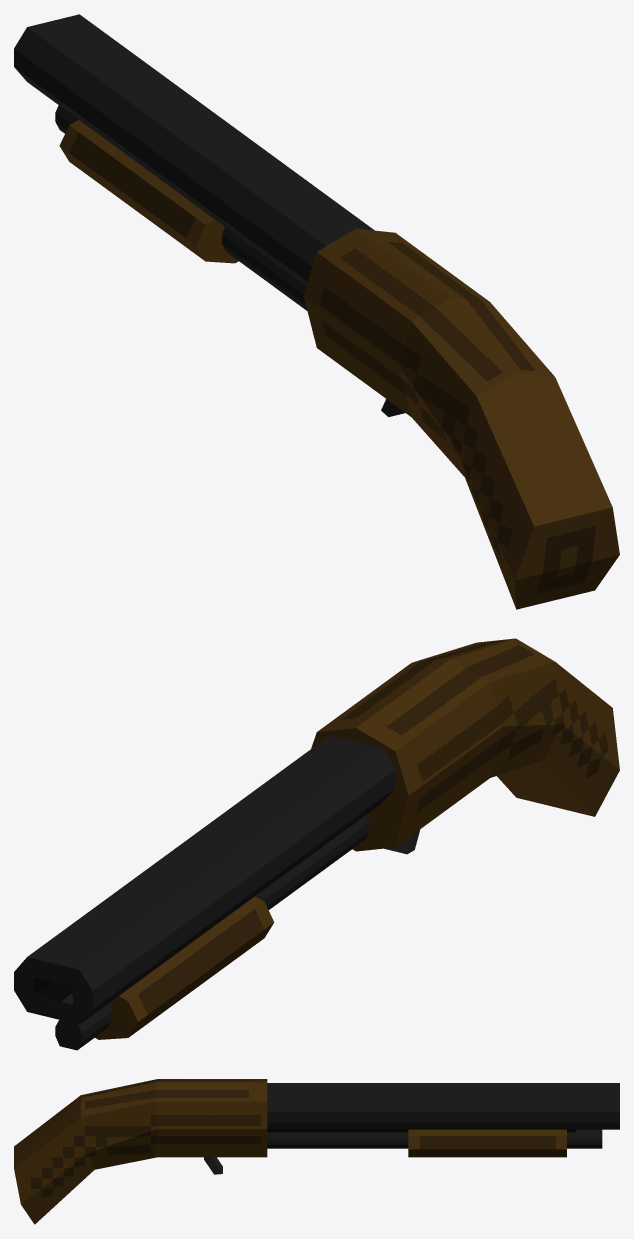
The model's file is shotgun.gltf.
3 renders of one model, top to bottom at view 1: azimuth 30°, elevation 25°; view 2: azimuth 150°, elevation 25°; view 3: azimuth 270°, elevation 25°, orthographic. The views are drawn at different scales.
Visible parts, largest first — view 1: base, top barrel, pump, lower barrel; view 2: base, top barrel, pump, lower barrel; view 3: base, top barrel, pump, lower barrel, mid shaft, trigger.
Boxes of the visible parts, x1=… form: base: x1=303, y1=228, x2=619, y2=609; top barrel: x1=14, y1=14, x2=374, y2=286; pump: x1=59, y1=120, x2=238, y2=263; lower barrel: x1=55, y1=105, x2=307, y2=310; base: x1=311, y1=638, x2=619, y2=851; top barrel: x1=14, y1=735, x2=395, y2=1024; pump: x1=95, y1=896, x2=274, y2=1039; lower barrel: x1=55, y1=815, x2=369, y2=1050; base: x1=14, y1=1079, x2=267, y2=1224; top barrel: x1=267, y1=1083, x2=619, y2=1129; pump: x1=408, y1=1129, x2=566, y2=1157; lower barrel: x1=267, y1=1129, x2=602, y2=1148; mid shaft: x1=267, y1=1129, x2=575, y2=1132; trigger: x1=204, y1=1157, x2=222, y2=1174.
Size of the model in its own units: 0.05 by 0.1027 by 0.4294.
6 materials, 6 textured.
